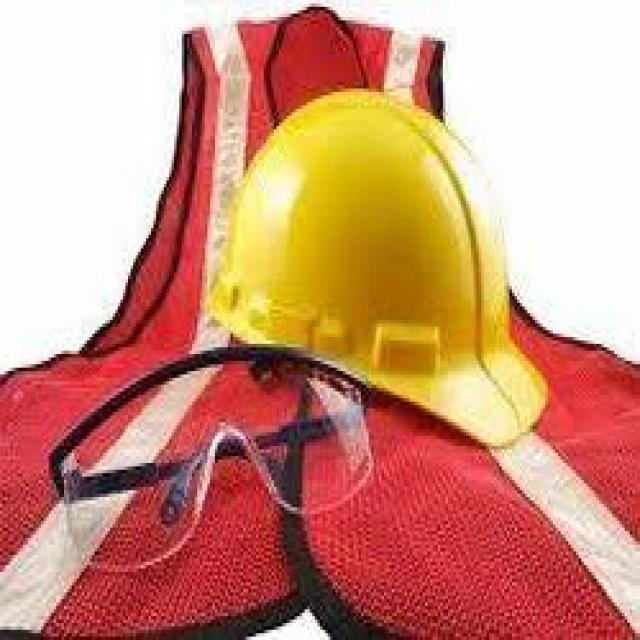Safety-Helmet: (187, 78, 558, 463)
